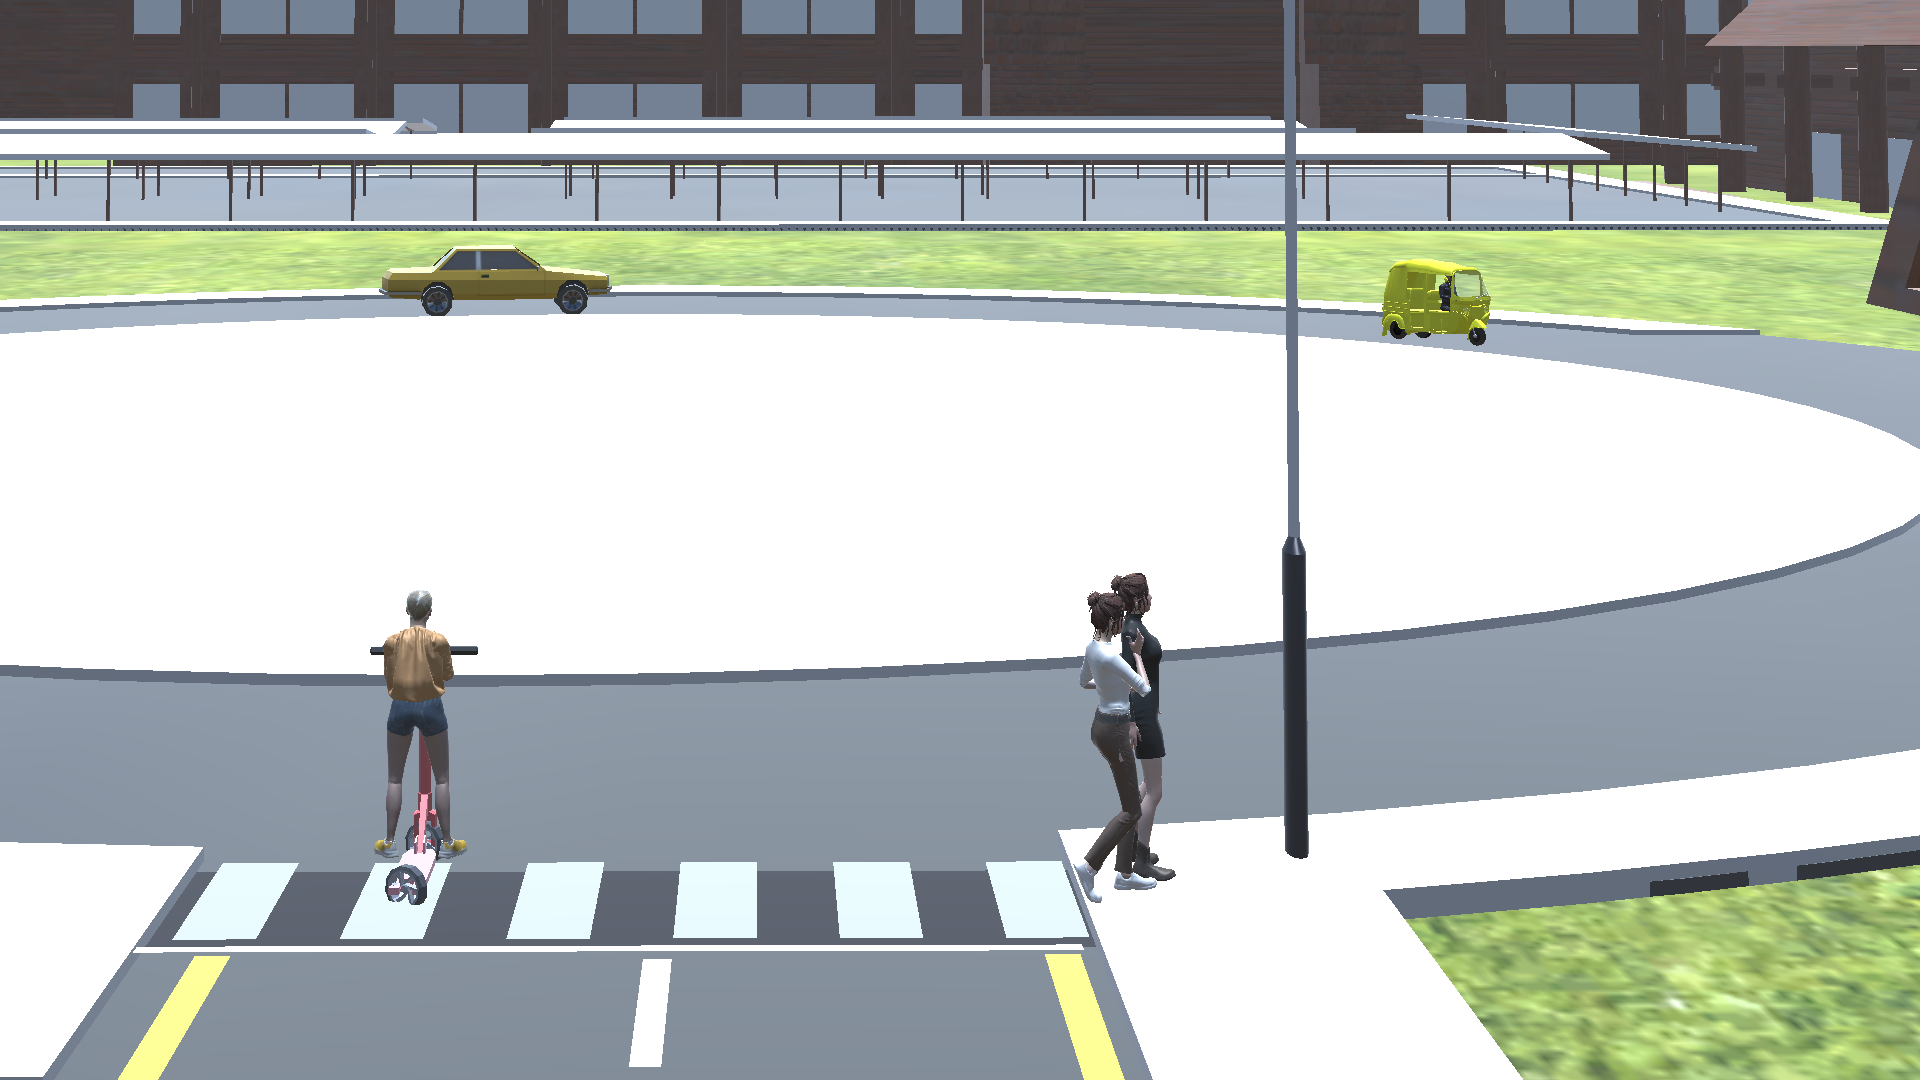pedestrian: (1065, 593, 1150, 902), (1105, 569, 1184, 883)
